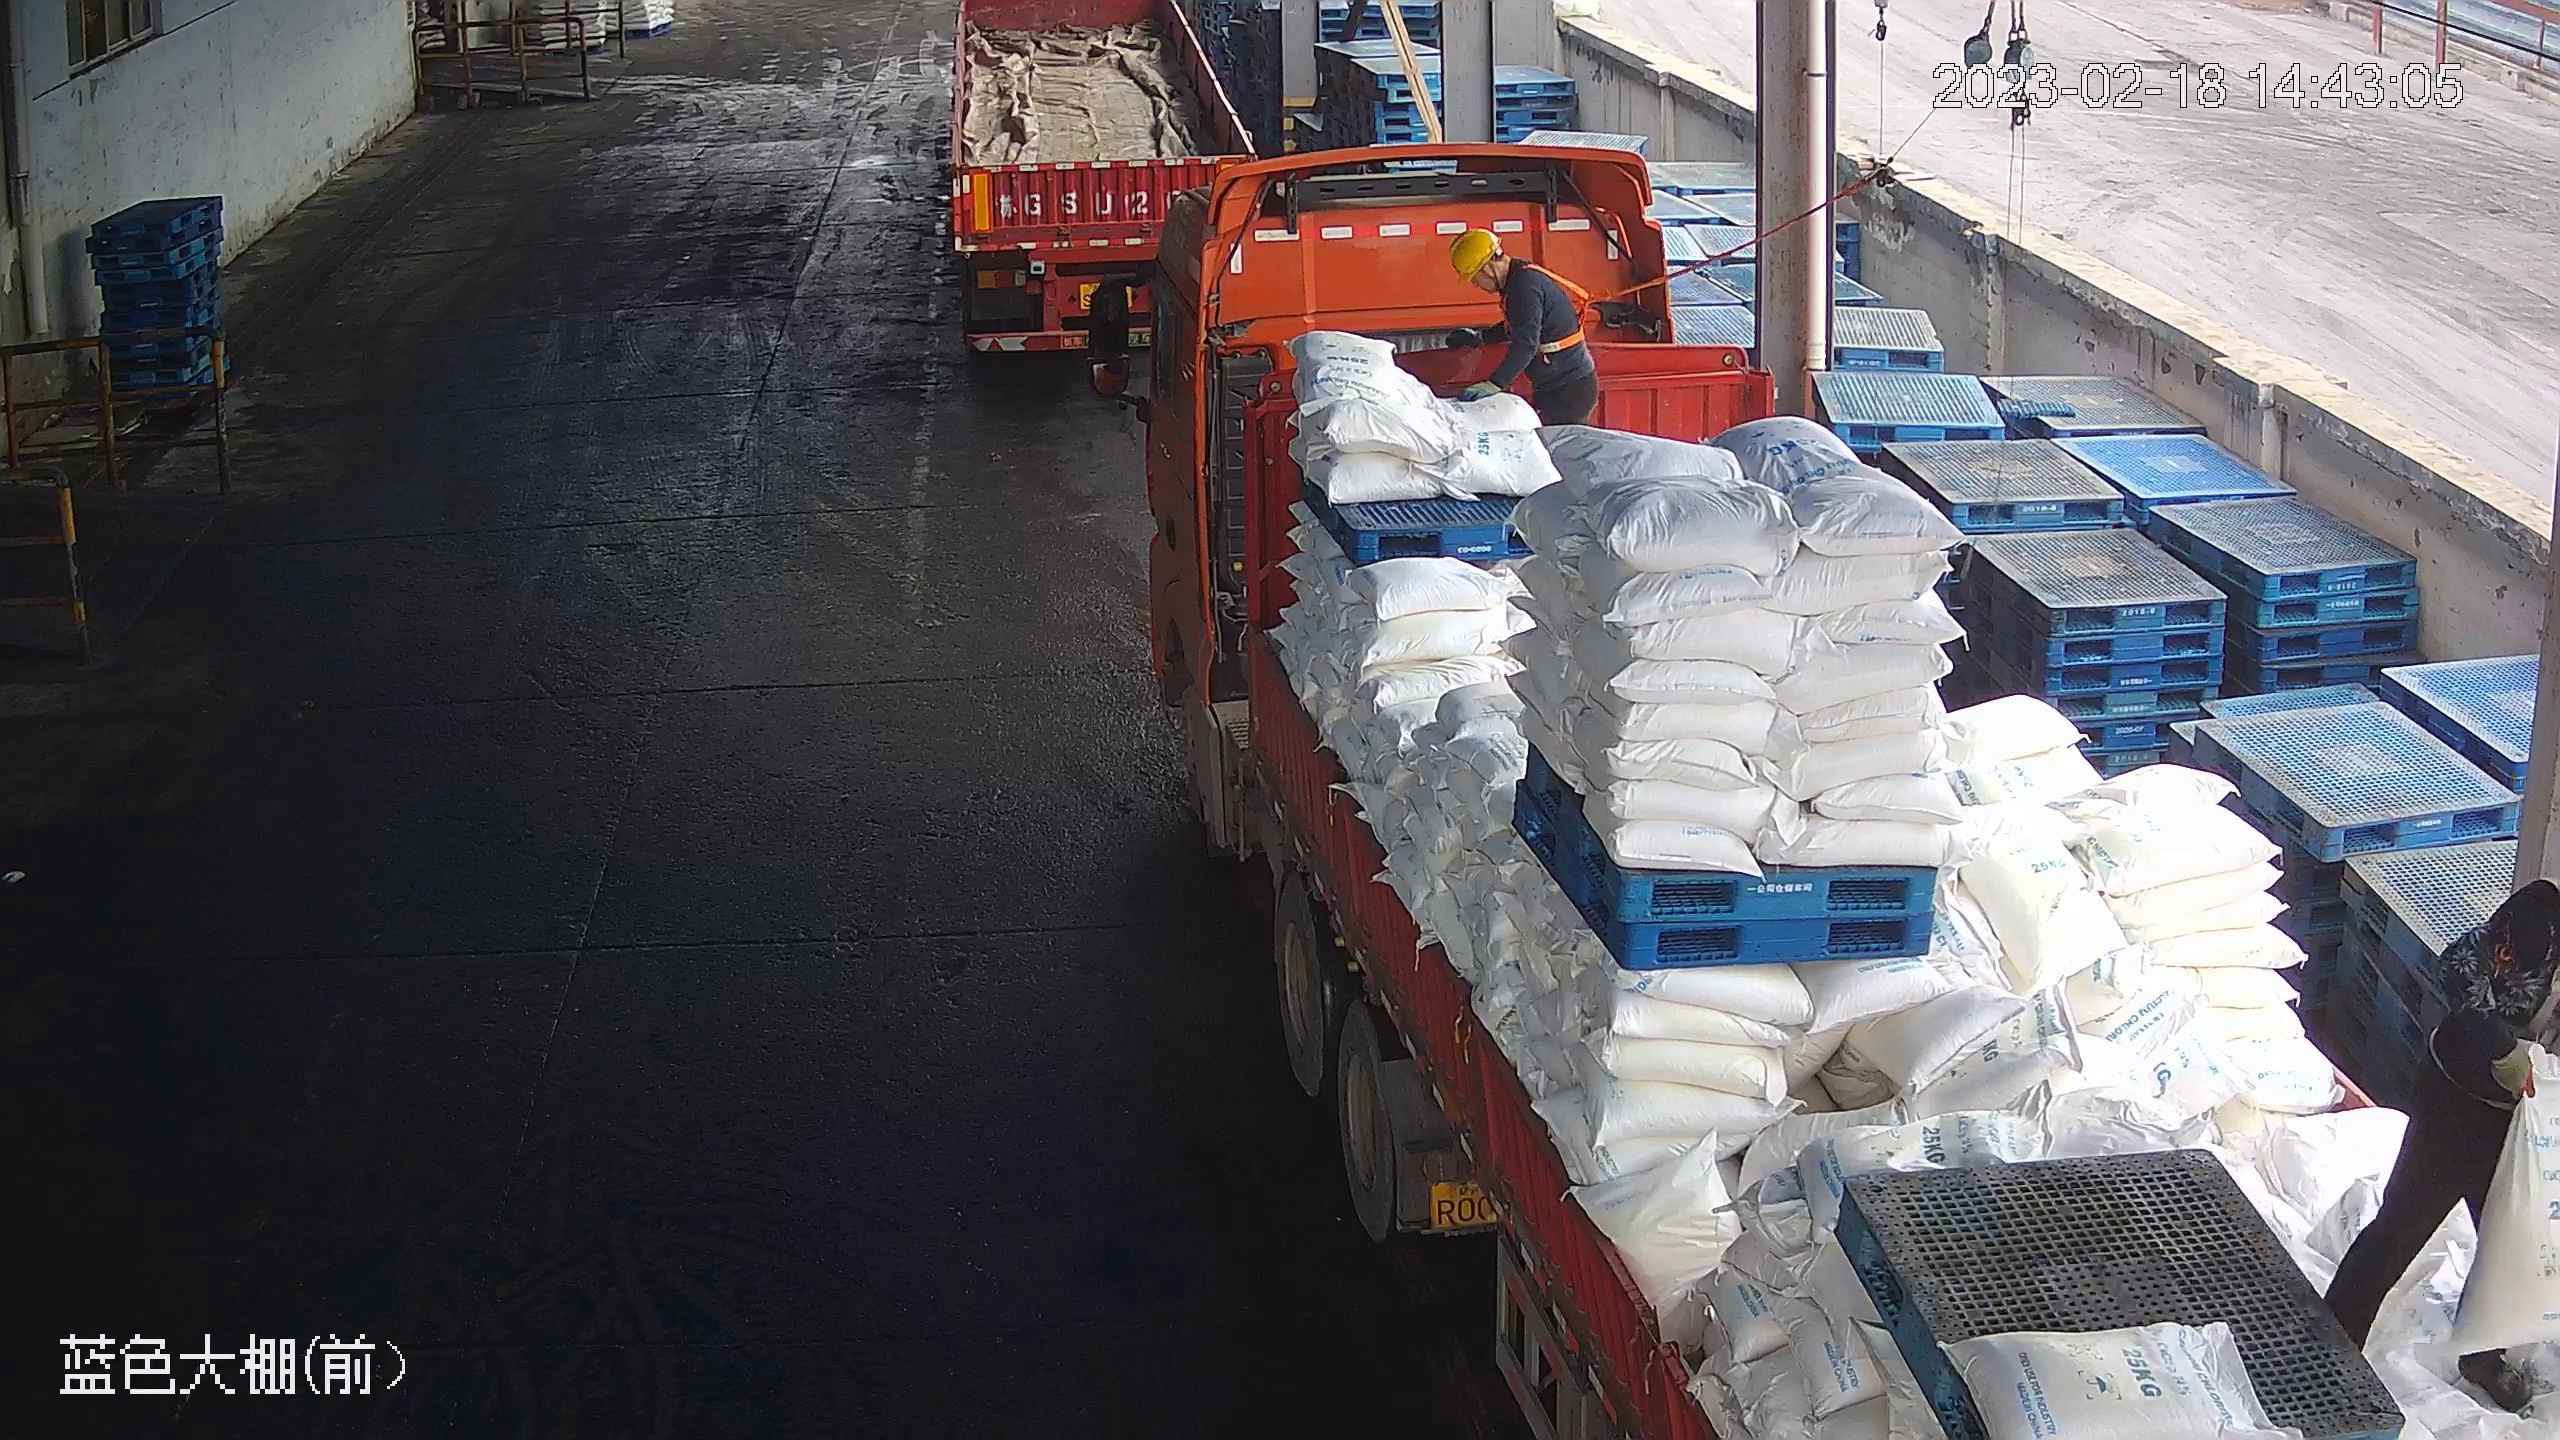belt: (1517, 260, 1601, 353)
head: (1447, 226, 1569, 319)
helmet: (1446, 228, 1505, 282)
people: (2397, 881, 2560, 1252), (1444, 226, 1606, 428)
truck: (1086, 142, 2553, 1439), (947, 2, 1260, 351)
